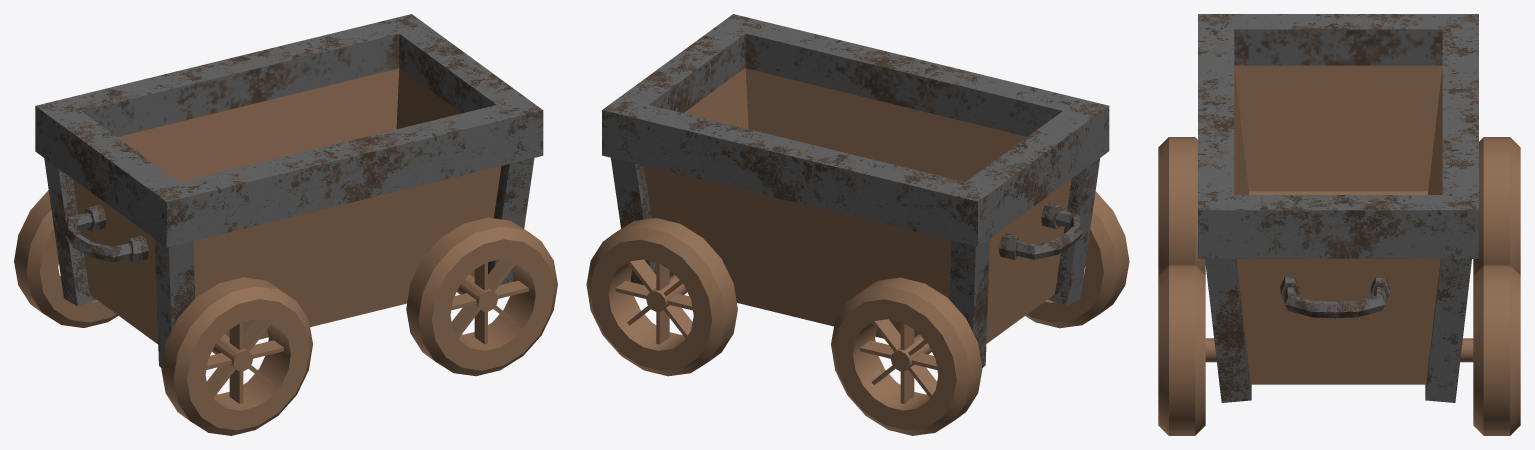
File: 小推车 finish.FBX
The picture shows the model from 3 angles, left to right: view 1: azimuth 30°, elevation 25°; view 2: azimuth 150°, elevation 25°; view 3: azimuth 270°, elevation 25°; orthographic projection. The views are drawn at different scales.
Parts seen in each view (by area): view 1: 小推车; view 2: 小推车; view 3: 小推车.
Part boxes in pixels (x1,y1,x2,y2): 小推车: (14, 14, 557, 435); 小推车: (586, 14, 1129, 435); 小推车: (1158, 14, 1520, 435).
Size of the model in its own units: 88.15 by 46.04 by 59.83.
